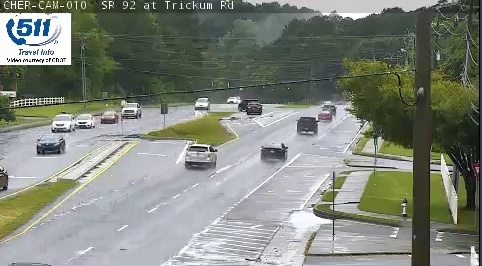car: (185, 144, 216, 167), (261, 142, 288, 159), (297, 116, 317, 132), (319, 110, 332, 121)
